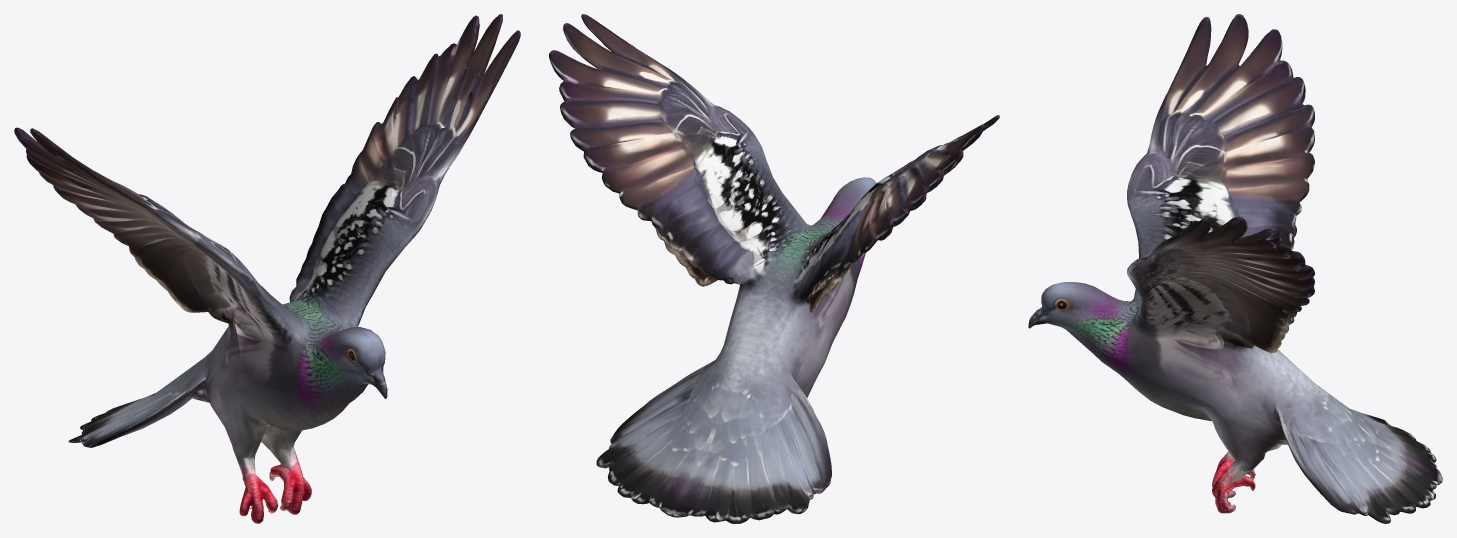
The model's file is kit_izmir_pigeon_flying.glb.
3 views of the same model, side by side, from view 1: azimuth 30°, elevation 25°; view 2: azimuth 150°, elevation 25°; view 3: azimuth 270°, elevation 25° (orthographic). The views are drawn at different scales.
Visible parts, largest first — view 1: Mesh_0; view 2: Mesh_0; view 3: Mesh_0.
Part boxes in pixels (left/top/right/bottom): Mesh_0: left=14, top=14, right=520, bottom=523; Mesh_0: left=549, top=14, right=999, bottom=523; Mesh_0: left=1028, top=14, right=1442, bottom=523.
Size of the model in its own units: 0.3353 by 0.3 by 0.2886.
1 material, 1 textured.
